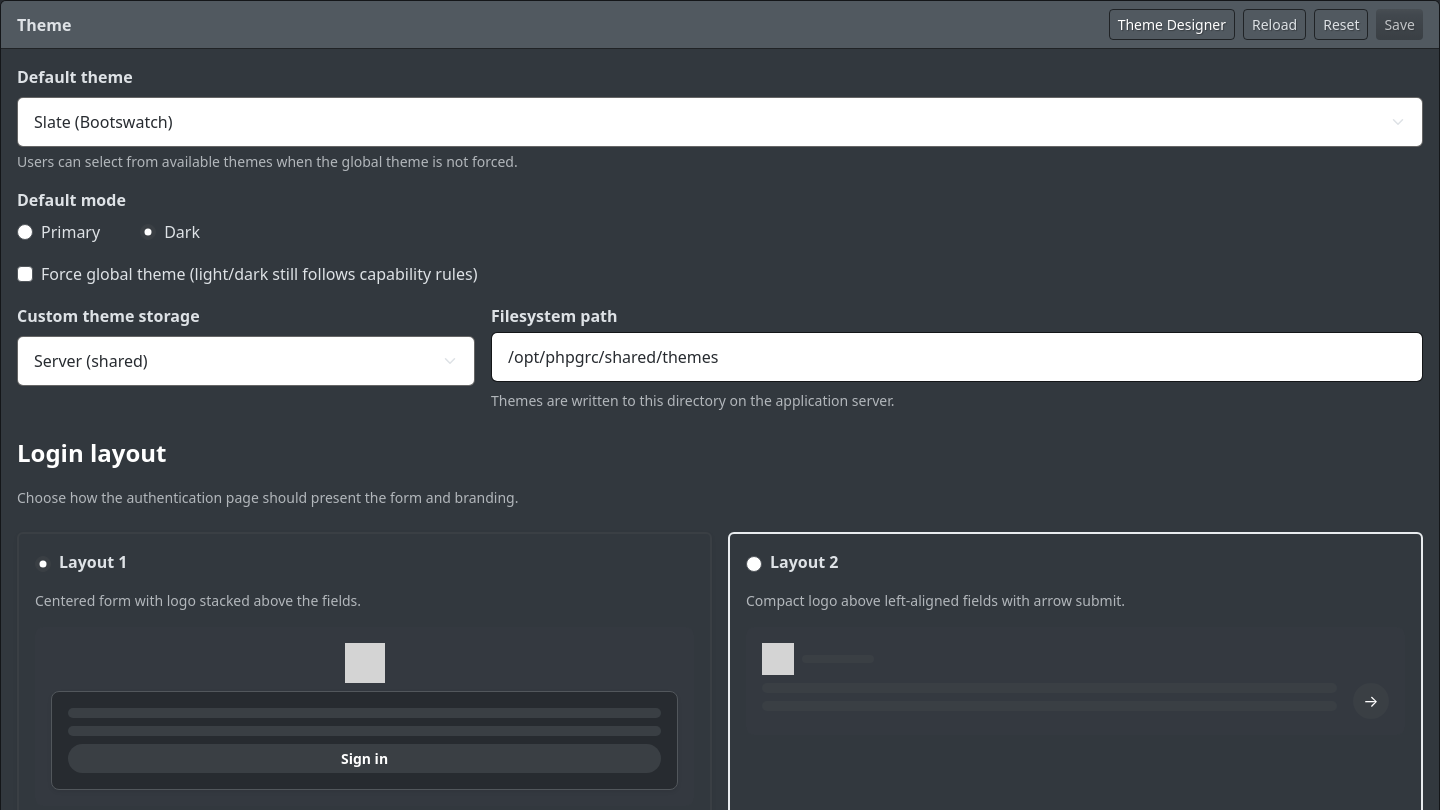
ThemeConfigurator › shows a conflict message and refetches when the save returns 409
Select "Cosmo (Bootswatch)" in the dropdown labelled "Default theme" at (720, 122), box [17, 97, 1423, 147]
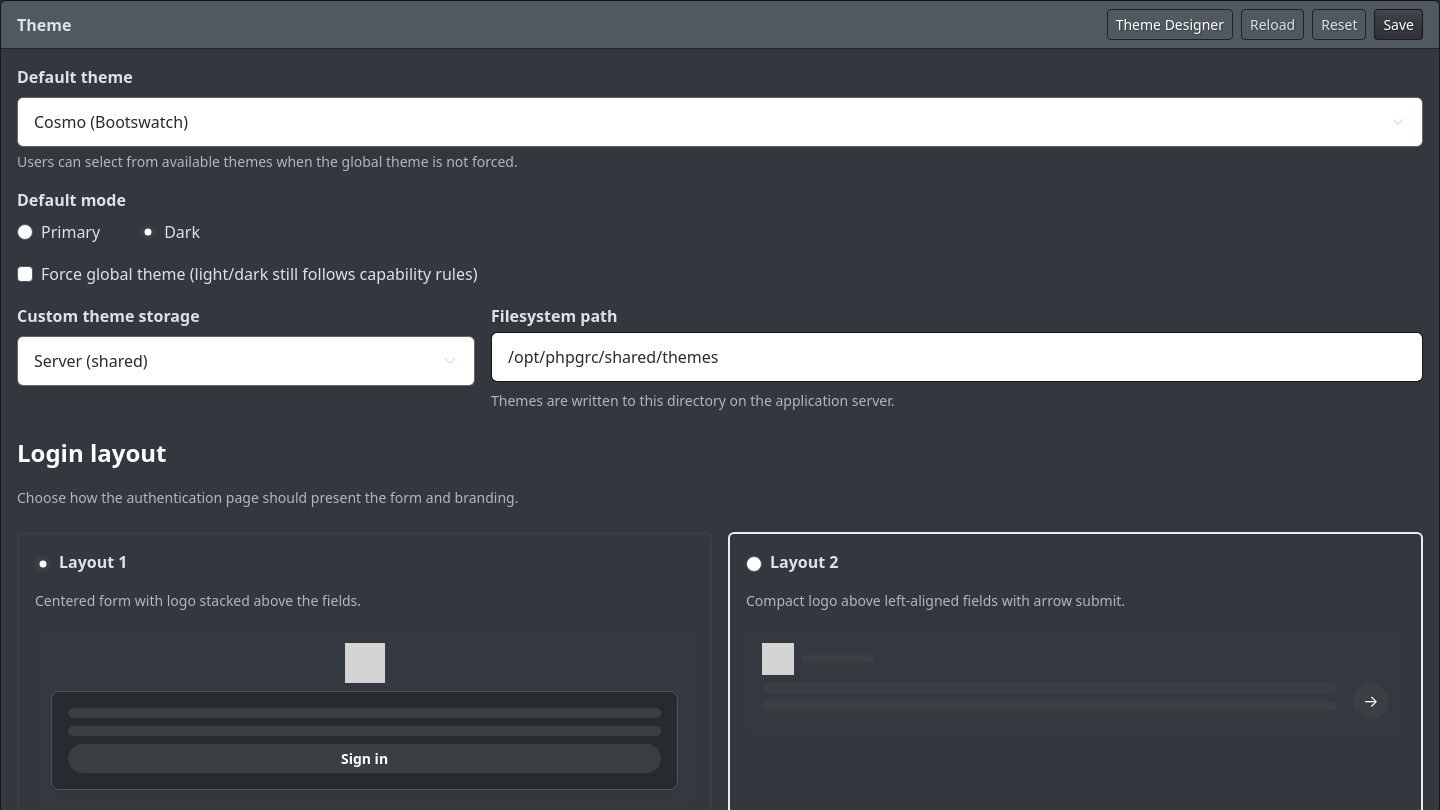
Click the button "Save" at (1399, 24), box [1374, 9, 1423, 40]
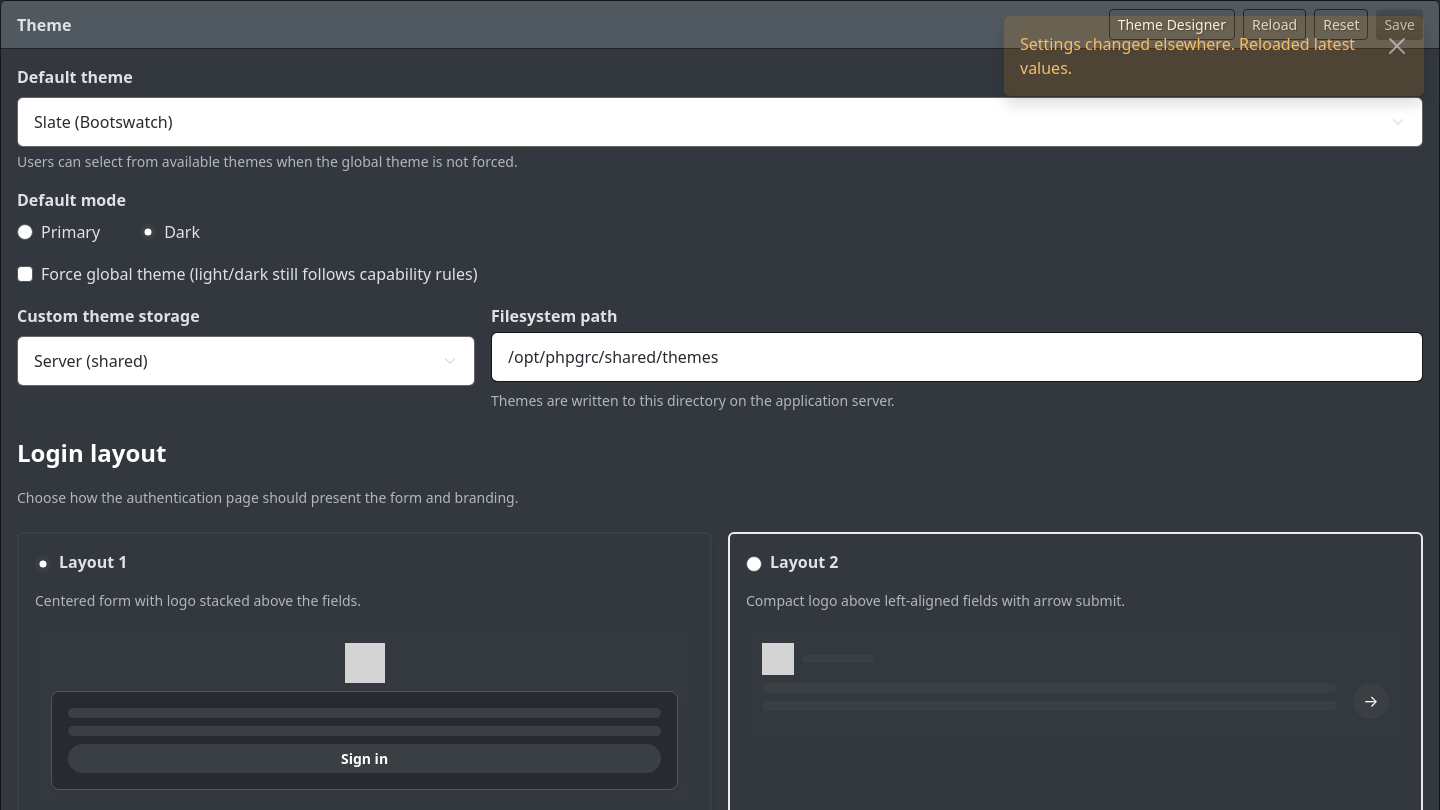
Expected: the text "Settings changed elsewhere. Reloaded latest values." is shown, [1020, 32, 1366, 80]
